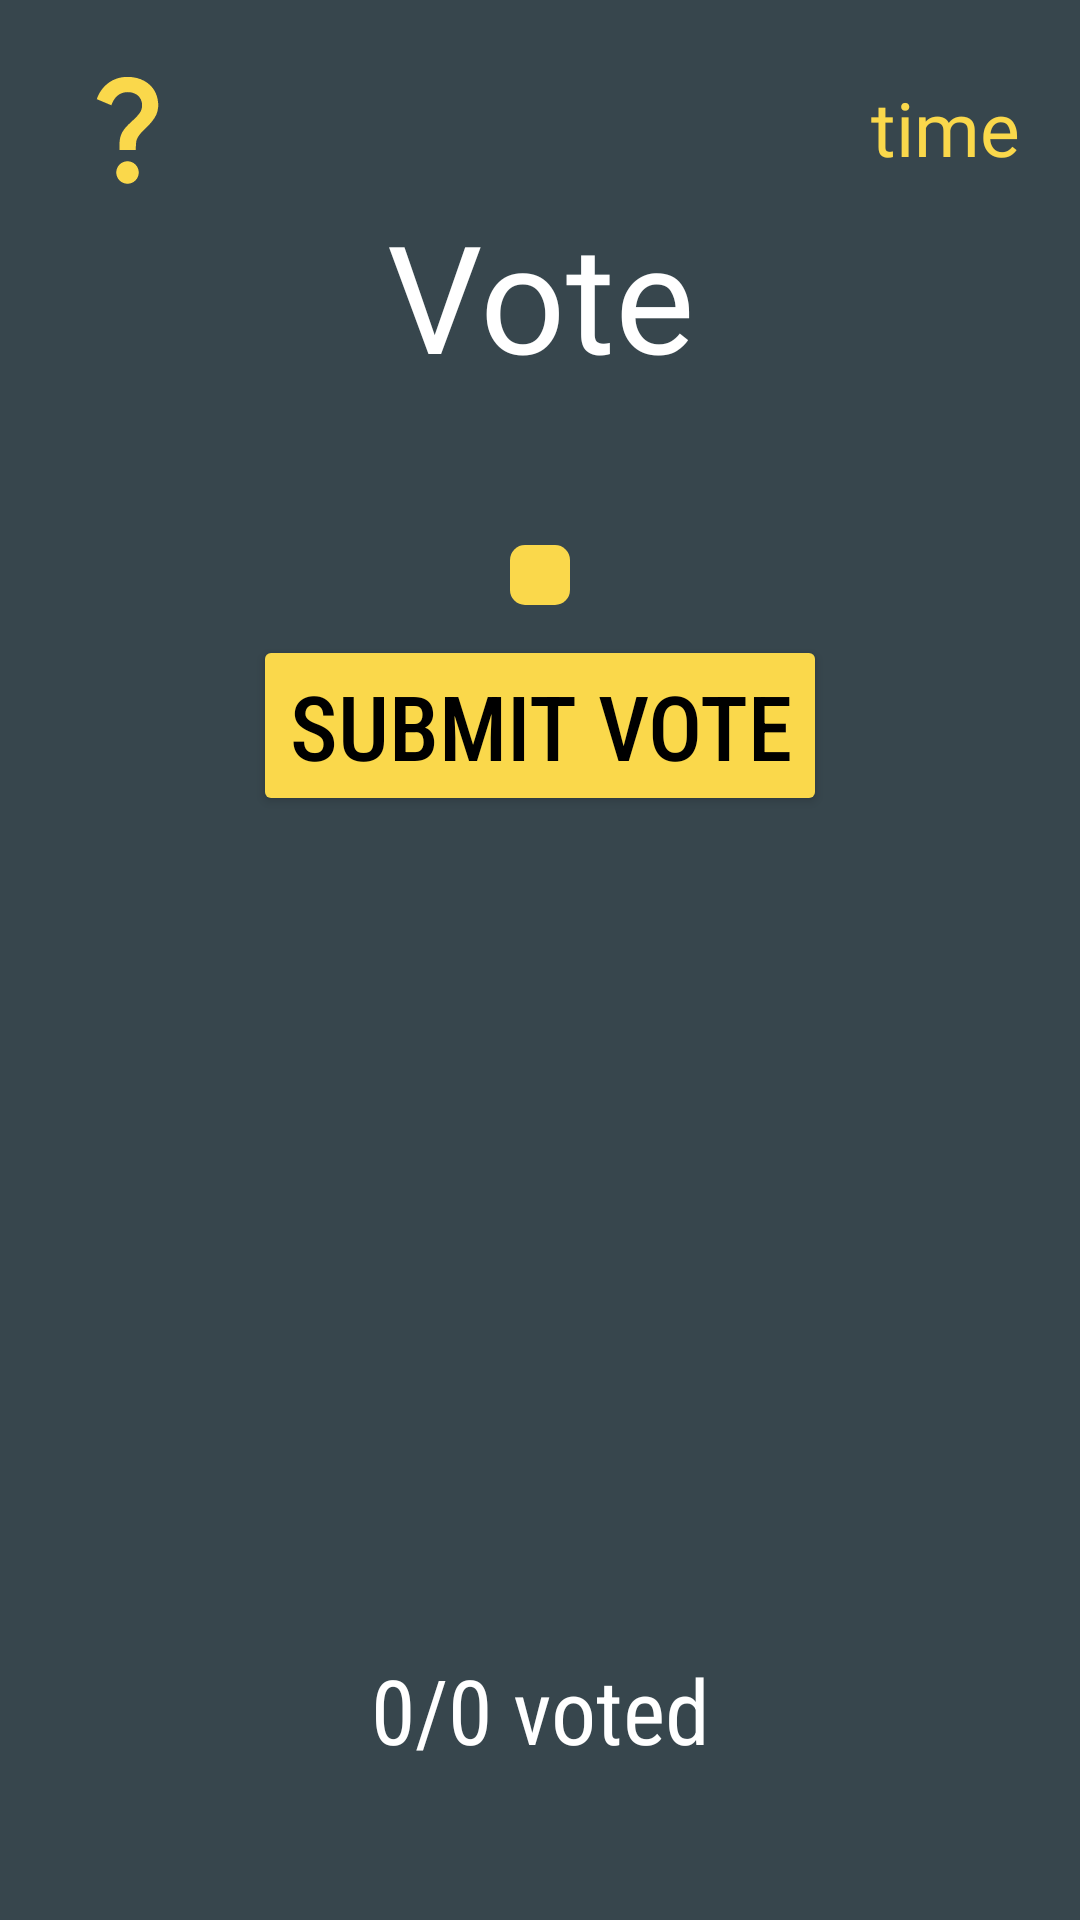

Screen size 1080 × 1920. Icon name, then its center in pixels as [x,y]:
qmark: [128,130]
